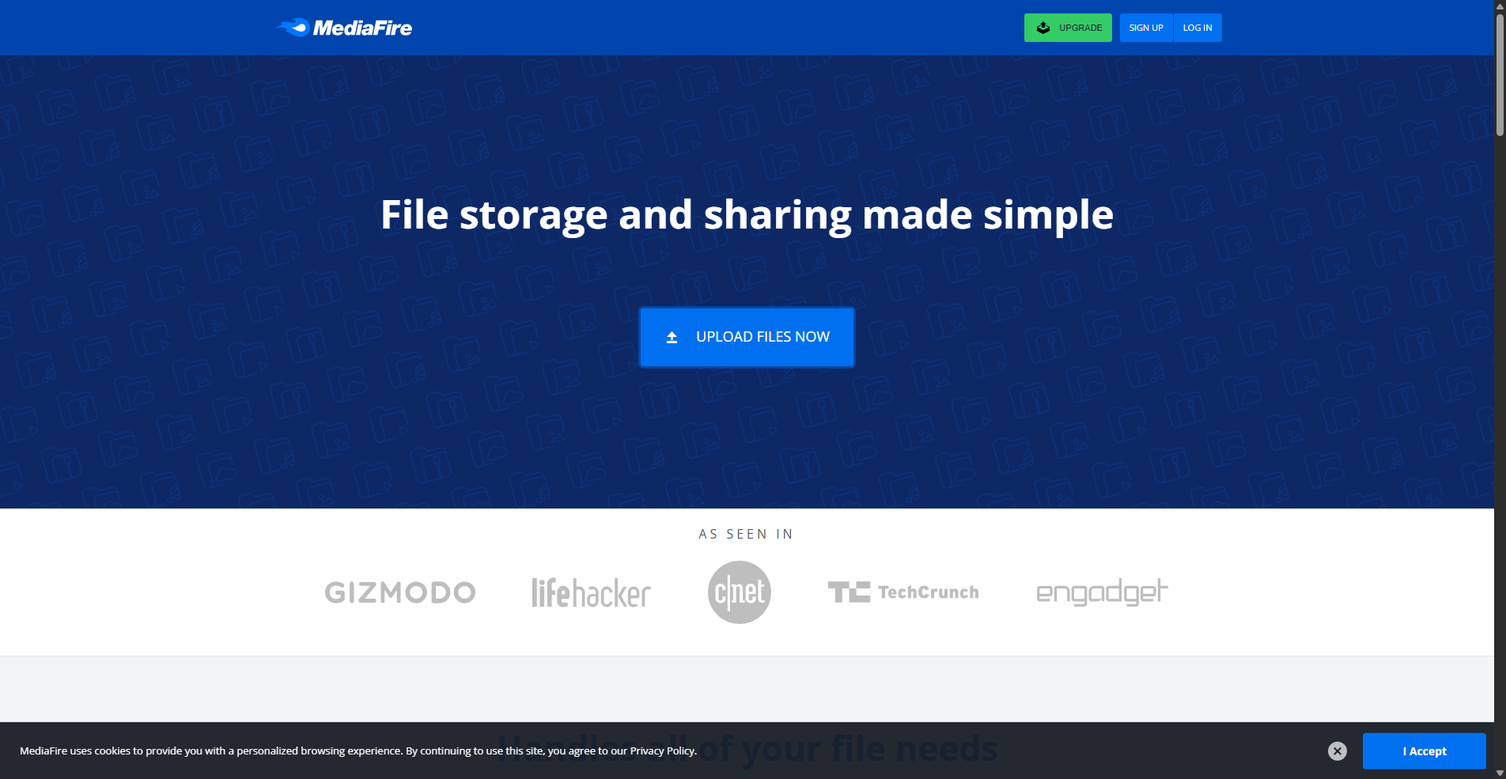button: (641, 308, 853, 366), (1320, 733, 1486, 769), (995, 12, 1113, 43), (1120, 13, 1174, 42), (1174, 13, 1222, 42)
link: (1363, 733, 1486, 769), (272, 17, 423, 38), (1320, 734, 1355, 768)
